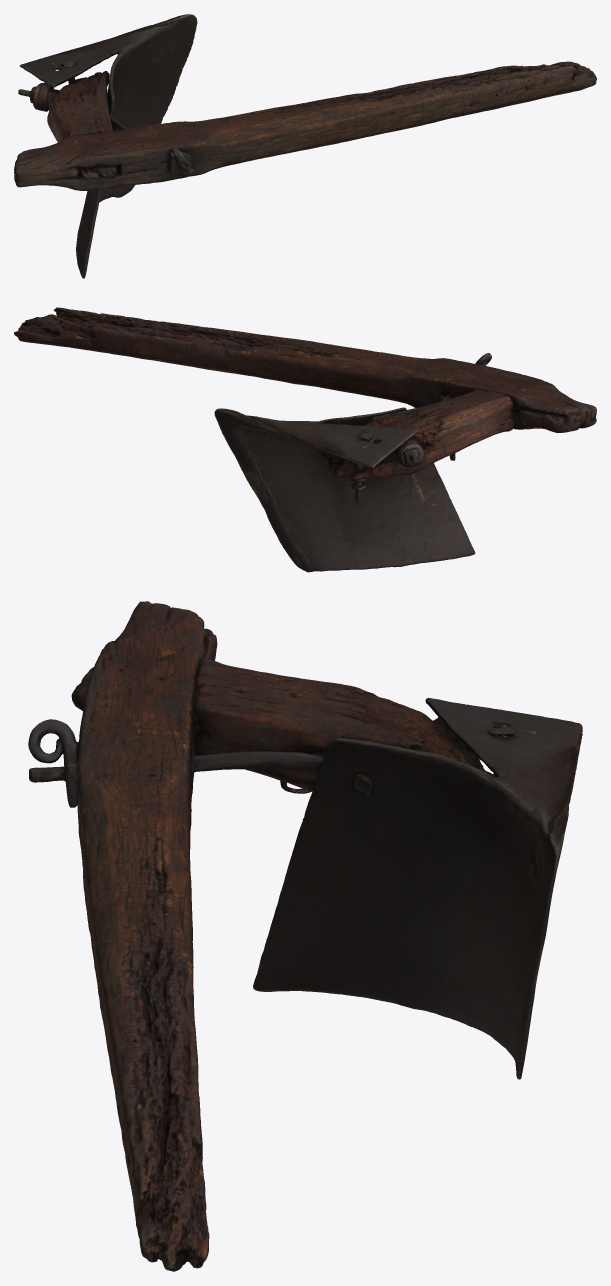
The model's file is museum_plow.glb.
3 views of the same model, one above another, from view 1: azimuth 30°, elevation 25°; view 2: azimuth 150°, elevation 25°; view 3: azimuth 270°, elevation 25° (orthographic). The views are drawn at different scales.
Visible parts, largest first — view 1: John_Deere_Plow-unwrapped-webmulti; view 2: John_Deere_Plow-unwrapped-webmulti; view 3: John_Deere_Plow-unwrapped-webmulti.
Part boxes in pixels (x1=…): John_Deere_Plow-unwrapped-webmulti: x1=14, y1=14, x2=596, y2=278; John_Deere_Plow-unwrapped-webmulti: x1=14, y1=307, x2=596, y2=572; John_Deere_Plow-unwrapped-webmulti: x1=28, y1=601, x2=582, y2=1271.
Size of the model in its own units: 1.23 by 0.3257 by 0.5167.
1 material, 1 textured.
